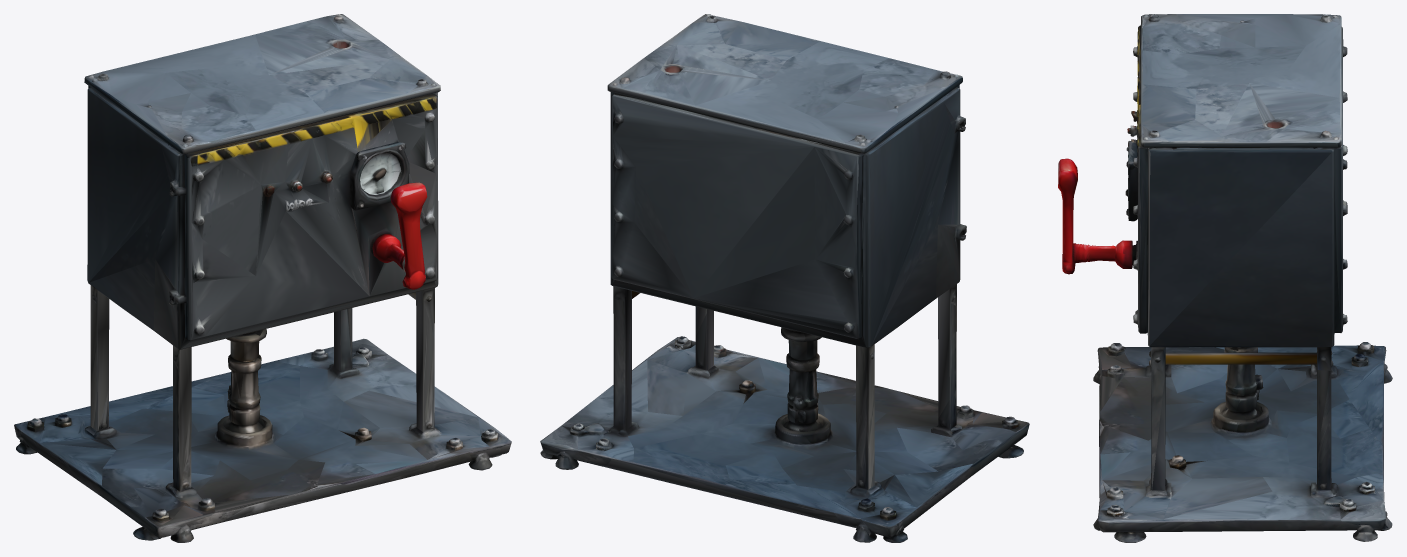
The model's file is power_transfer_switch_LOD1.fbx.
3 views of the same model, side by side, from view 1: azimuth 30°, elevation 25°; view 2: azimuth 150°, elevation 25°; view 3: azimuth 270°, elevation 25° (orthographic).
Parts seen in each view (by area): view 1: power_transfer_switch.001; view 2: power_transfer_switch.001; view 3: power_transfer_switch.001.
Part boxes in pixels (box(x1,y1,x2,y2)): power_transfer_switch.001: box(14, 14, 511, 542); power_transfer_switch.001: box(540, 14, 1029, 542); power_transfer_switch.001: box(1058, 14, 1392, 542).
Bounding box in the file's own units: 1.45 × 1.42 × 1.13.
1 material, 1 textured.
